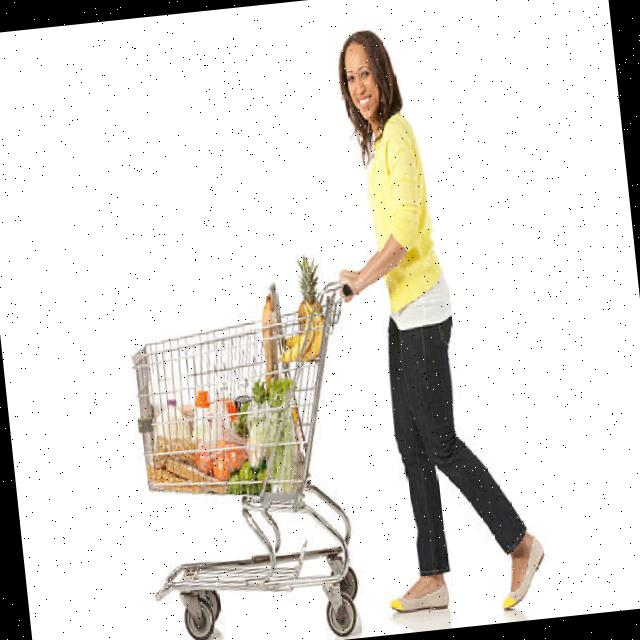Person: (317, 16, 550, 624)
